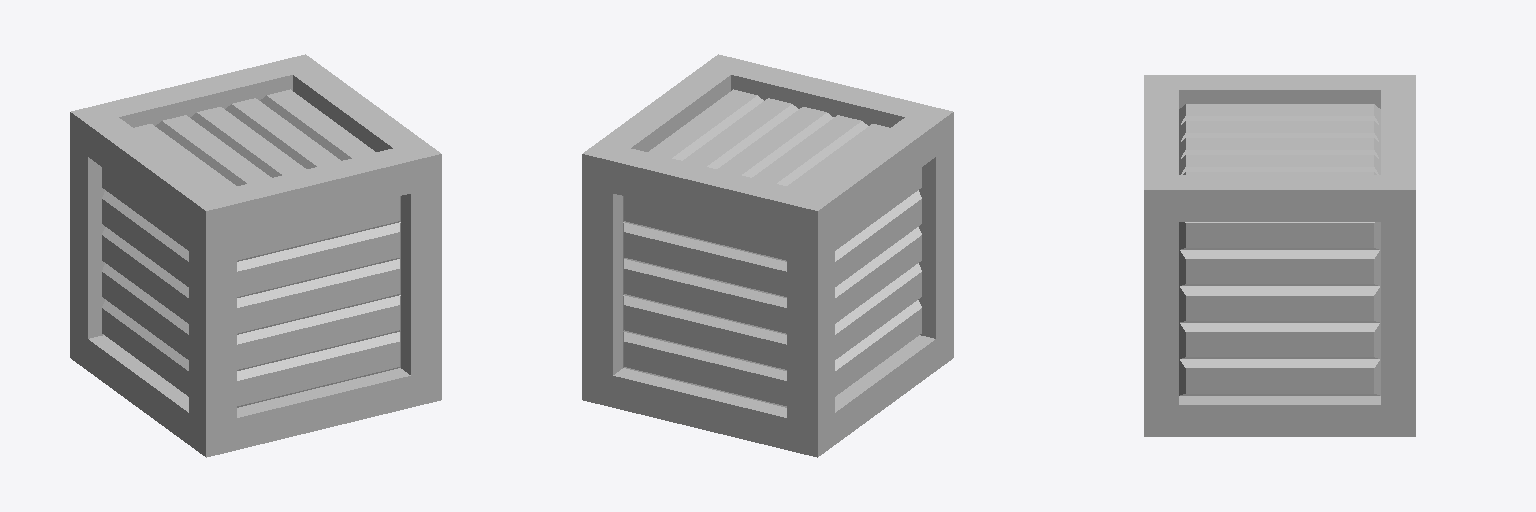
File: Caisse.obj
3 views of the same model, side by side, from view 1: azimuth 30°, elevation 25°; view 2: azimuth 150°, elevation 25°; view 3: azimuth 270°, elevation 25° (orthographic).
Parts seen in each view (by area): view 1: Caisse; view 2: Caisse; view 3: Caisse.
Boxes of the visible parts, <box> form: Caisse: <box>70,54,441,457</box>; Caisse: <box>582,54,953,457</box>; Caisse: <box>1144,75,1415,436</box>.
Bounding box in the file's own units: 103 × 103 × 103.